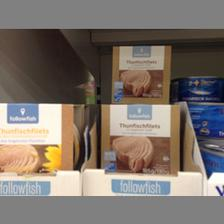Fisch: (0, 102, 84, 174), (99, 102, 179, 176), (110, 45, 170, 101), (170, 75, 222, 101)
